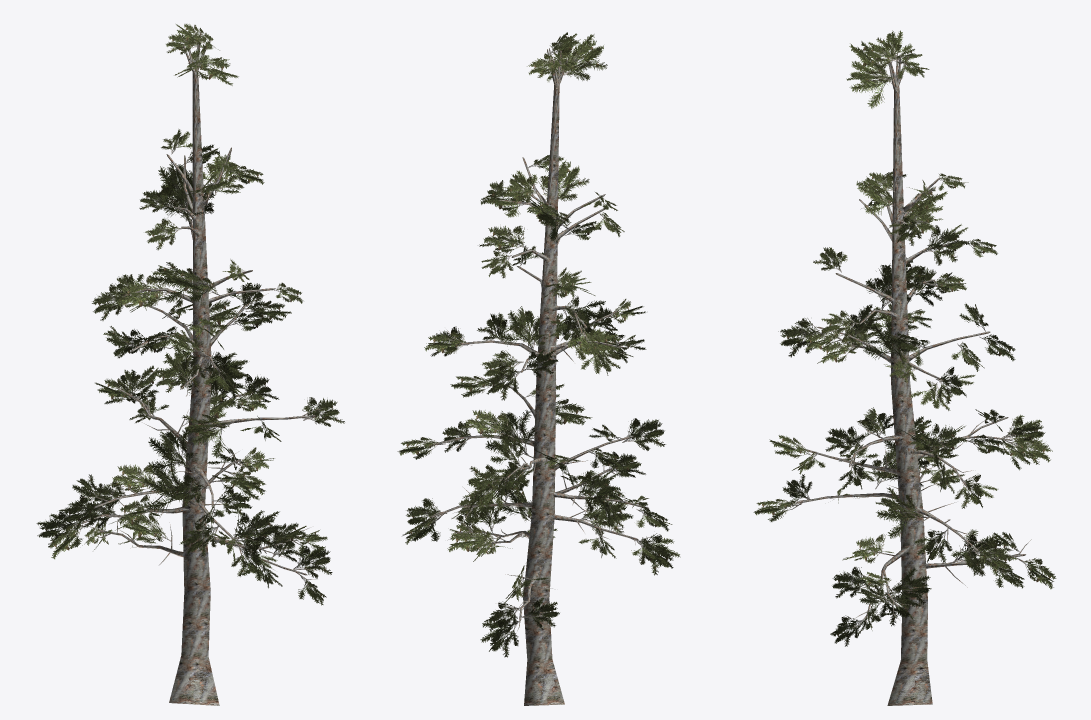
The model's file is Conifer_LowPoly_GEO.fbx.
The picture shows the model from 3 angles, left to right: view 1: azimuth 30°, elevation 25°; view 2: azimuth 150°, elevation 25°; view 3: azimuth 270°, elevation 25°; orthographic projection. The views are drawn at different scales.
Visible parts, largest first — view 1: Conifer_LowPoly_GEO; view 2: Conifer_LowPoly_GEO; view 3: Conifer_LowPoly_GEO.
Part boxes in pixels (x1,y1,x2,y2): Conifer_LowPoly_GEO: (36, 24, 344, 705); Conifer_LowPoly_GEO: (397, 32, 680, 705); Conifer_LowPoly_GEO: (753, 30, 1056, 705).
Bounding box in the file's own units: 27.73 × 29.18 × 62.3.
